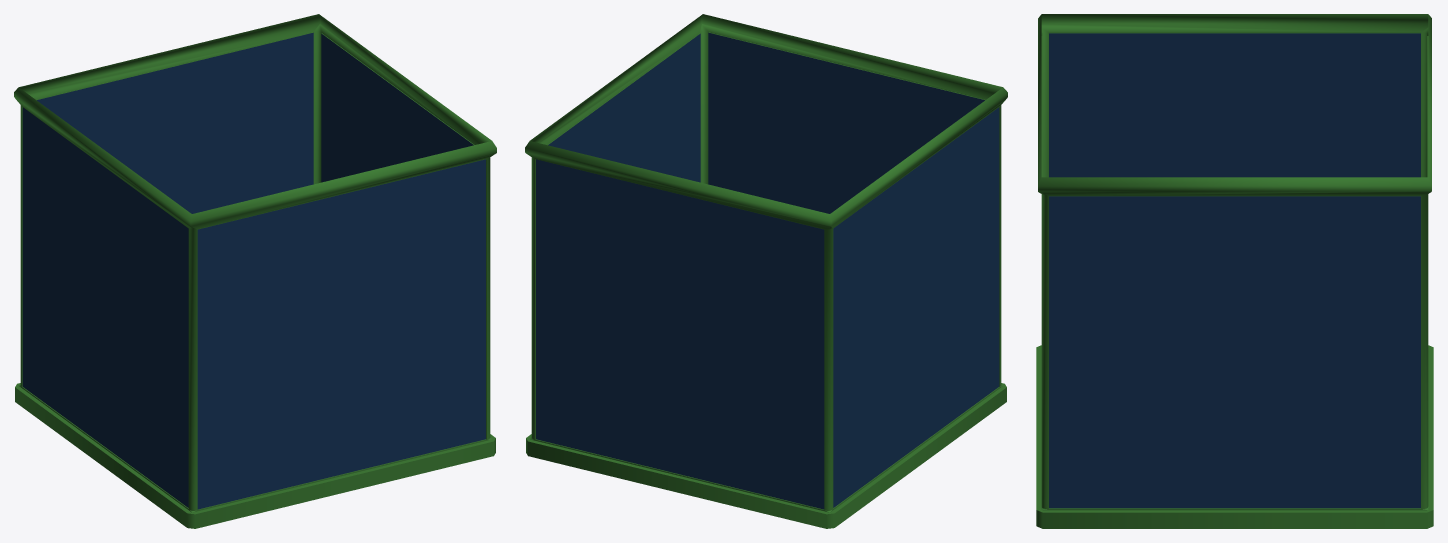
File: Cubewall.FBX
3 renders of one model, left to right at view 1: azimuth 30°, elevation 25°; view 2: azimuth 150°, elevation 25°; view 3: azimuth 270°, elevation 25°, orthographic. The views are drawn at different scales.
Parts seen in each view (by area): view 1: Box002; view 2: Box002; view 3: Box002.
Boxes of the visible parts, x1,y1,x2,y2 form: Box002: (14,14,496,528); Box002: (525,14,1007,528); Box002: (1036,14,1433,528).
Size of the model in its own units: 10.28 by 9.97 by 10.28.
